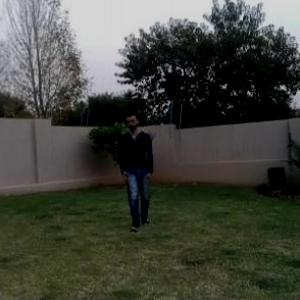follow: (120, 106, 158, 234)
